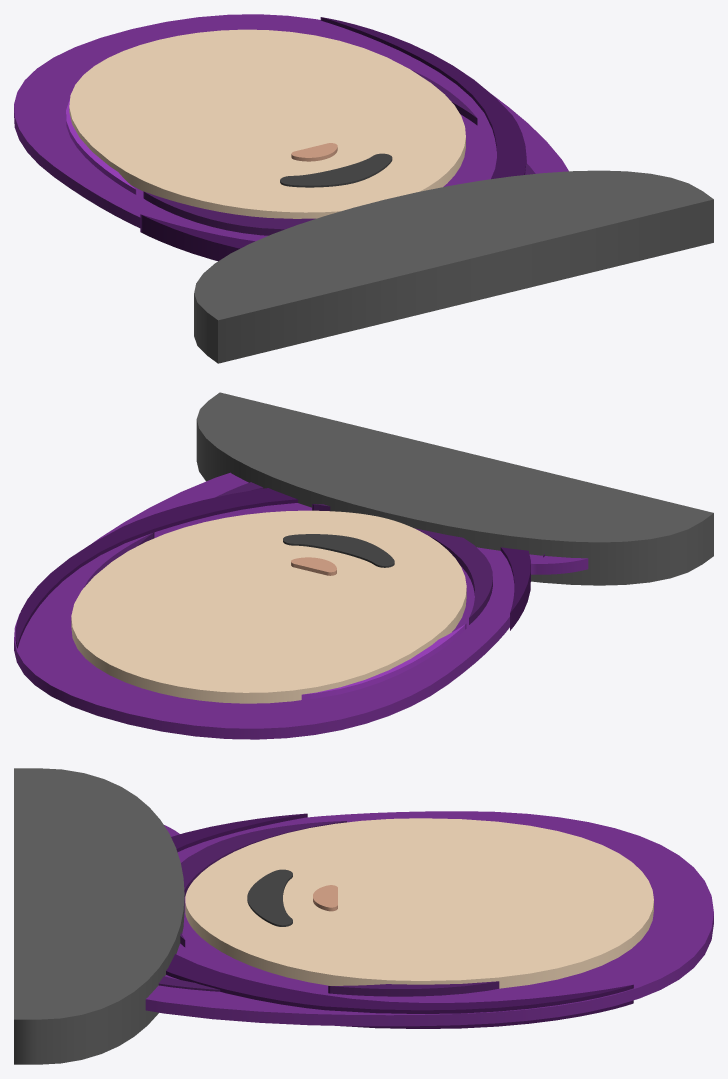
The model's file is emoji_u1f9d5_1f3fb.glb.
The picture shows the model from 3 angles, top to bottom: view 1: azimuth 30°, elevation 25°; view 2: azimuth 150°, elevation 25°; view 3: azimuth 270°, elevation 25°; orthographic projection. The views are drawn at different scales.
Visible parts, largest first — view 1: emoji_u1f9d5_1f3fb; view 2: emoji_u1f9d5_1f3fb; view 3: emoji_u1f9d5_1f3fb.
Boxes of the visible parts, x1=… form: emoji_u1f9d5_1f3fb: x1=14, y1=14, x2=713, y2=363; emoji_u1f9d5_1f3fb: x1=14, y1=392, x2=713, y2=739; emoji_u1f9d5_1f3fb: x1=14, y1=768, x2=713, y2=1064.
Size of the model in its own units: 0.0287 by 0.0024 by 0.0338.
